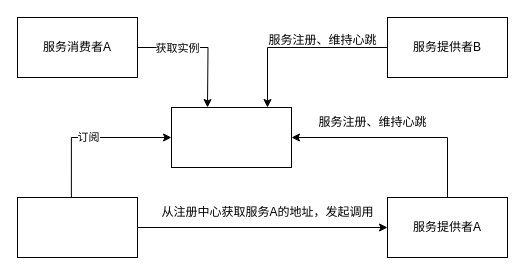
The diagram is 525 pixels wide and 275 high, and some of its shapes have lost their labels. Each missing label, with the box of its shape:
Nacos注册中心: (170, 106, 292, 168)
服务消费者B: (16, 196, 138, 258)
